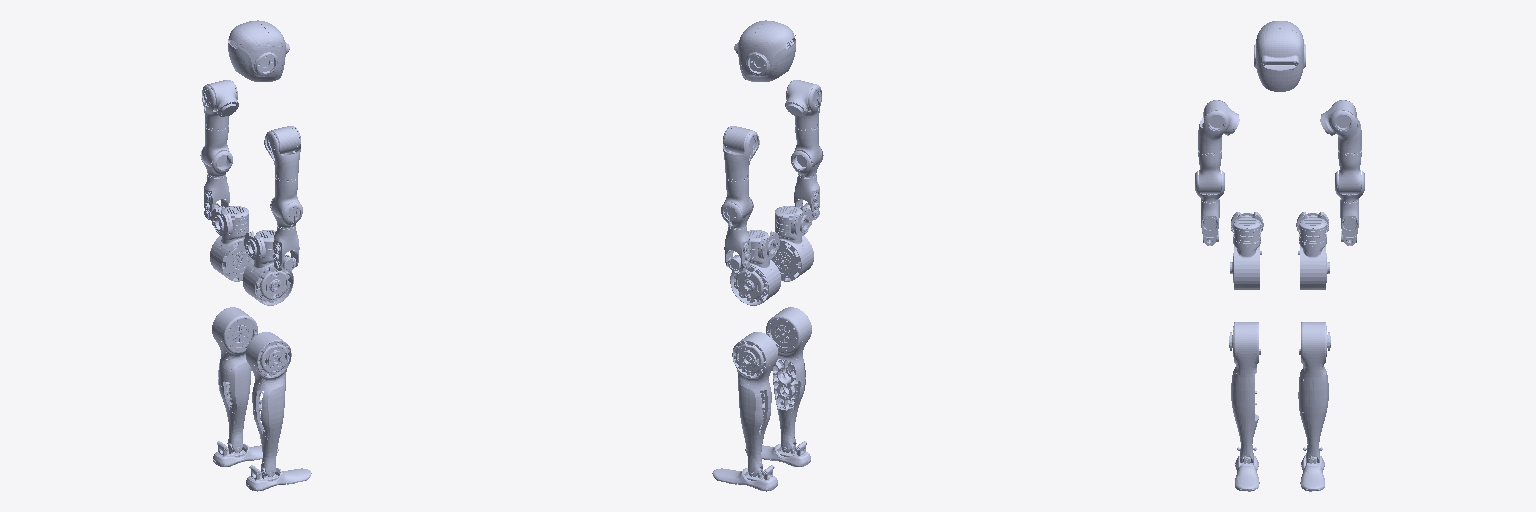
--- What the picture shows (computed from the rendered views, not written in the file) ---
3 views of the same robot in one strip: view 1: azimuth 30°, elevation 25°; view 2: azimuth 150°, elevation 25°; view 3: azimuth 270°, elevation 25° (orthographic).
Model Q1 with 30 links and 29 joints (29 revolute), rooted at pelvis_link, posed every joint at zero.
Links seen in each view (by area): view 1: R_knee_link, L_knee_link, head_pitch_link, R_hip_yaw_link, L_hip_yaw_link, R_ankle_roll_link, R_shoulder_roll_link, L_hip_roll_link, L_shoulder_yaw_link, L_ankle_roll_link, R_forearm_yaw_link, L_shoulder_pitch_link (+5 smaller); view 2: L_knee_link, R_knee_link, head_pitch_link, L_hip_yaw_link, R_hip_yaw_link, L_ankle_roll_link, L_shoulder_roll_link, R_hip_roll_link, R_shoulder_yaw_link, R_ankle_roll_link, L_forearm_yaw_link, R_shoulder_pitch_link (+5 smaller); view 3: L_knee_link, R_knee_link, head_pitch_link, L_hip_yaw_link, R_hip_yaw_link, L_shoulder_yaw_link, R_shoulder_yaw_link, L_shoulder_roll_link, R_shoulder_roll_link, L_hip_roll_link, R_hip_roll_link, L_ankle_roll_link (+5 smaller).
Link boxes in pixels (<box>): R_knee_link: <box>246,332,291,476</box>; L_knee_link: <box>212,307,257,452</box>; head_pitch_link: <box>228,20,289,81</box>; R_hip_yaw_link: <box>242,256,293,305</box>; L_hip_yaw_link: <box>210,228,252,281</box>; R_ankle_roll_link: <box>246,465,311,491</box>; R_shoulder_roll_link: <box>265,126,300,179</box>; L_hip_roll_link: <box>211,206,248,235</box>; L_shoulder_yaw_link: <box>202,125,229,167</box>; L_ankle_roll_link: <box>213,441,278,466</box>; R_forearm_yaw_link: <box>273,225,299,270</box>; L_shoulder_pitch_link: <box>206,80,238,116</box>; L_knee_link: <box>732,332,777,476</box>; R_knee_link: <box>766,307,811,452</box>; head_pitch_link: <box>734,20,795,81</box>; L_hip_yaw_link: <box>730,256,781,305</box>; R_hip_yaw_link: <box>771,228,813,281</box>; L_ankle_roll_link: <box>712,465,777,491</box>; L_shoulder_roll_link: <box>723,126,758,179</box>; R_hip_roll_link: <box>775,206,812,235</box>; R_shoulder_yaw_link: <box>794,125,821,167</box>; R_ankle_roll_link: <box>745,441,810,466</box>; L_forearm_yaw_link: <box>724,225,750,270</box>; R_shoulder_pitch_link: <box>785,80,817,116</box>; L_knee_link: <box>1298,322,1330,462</box>; R_knee_link: <box>1229,322,1260,462</box>; head_pitch_link: <box>1254,21,1305,91</box>; L_hip_yaw_link: <box>1298,239,1329,289</box>; R_hip_yaw_link: <box>1230,239,1261,289</box>; L_shoulder_yaw_link: <box>1338,150,1361,193</box>; R_shoulder_yaw_link: <box>1198,150,1221,193</box>; L_shoulder_roll_link: <box>1331,100,1361,153</box>; R_shoulder_roll_link: <box>1198,100,1228,153</box>; L_hip_roll_link: <box>1296,212,1328,242</box>; R_hip_roll_link: <box>1231,212,1263,242</box>; L_ankle_roll_link: <box>1300,447,1324,491</box>.
Size in the robot's own frame: 0.2527 by 0.5918 by 1.73 metres.
24 mesh visuals loaded from 30 distinct referenced files (24 binary STL); not drawn: 6 (reference not matched to a file when rendering).

URDF robot description (Q1):
<?xml version="1.0" encoding="utf-8"?>
<robot name="Q1">
  <mujoco>
    <compiler meshdir="../meshes" discardvisual="false" />
  </mujoco>
  <!-- [CAUTION] uncomment when convert to mujoco -->
  <!-- <link name="world"></link>
  <joint name="floating_base_joint" type="floating">
    <parent link="world" />
    <child link="pelvis_link" />
  </joint> -->

<!-- pelvis -->
  <link name="pelvis_link">
    <inertial>
      <origin xyz="-0.059494 -3E-05 -0.050247" rpy="0 0 0" />
      <mass value="4.85" />
      <inertia ixx="0.040224" ixy="-8.3E-06" ixz="-0.0023326" iyy="0.016754" iyz="2.11E-05" izz="0.045978" />
    </inertial>
    <visual>
      <origin xyz="0 0 0" rpy="0 0 0" />
      <geometry>
        <mesh filename="meshes/pelvis_link.STL" />
      </geometry>
      <material name="">
        <color rgba="0.79216 0.81961 0.93333 1" />
      </material>
    </visual>
    <collision>
      <origin xyz="-0.1 0 -0.05" rpy="0 0 0" />
      <geometry>
        <box size="0.08 0.35 0.1"/>
      </geometry>
    </collision>
  </link>
<!-- Left leg -->
  <link name="L_hip_roll_link">
    <inertial>
      <origin xyz="-0.017355 3.27E-05 0.0052023" rpy="0 0 0" />
      <mass value="1.25" />
      <inertia ixx="0.0013325" ixy="8E-07" ixz="-1.9E-06" iyy="0.0017211" iyz="-1.8E-06" izz="0.0022727" />
    </inertial>
    <visual>
      <origin xyz="0 0 0" rpy="0 0 0" />
      <geometry>
        <mesh filename="meshes/L_hip_roll_link.STL" />
      </geometry>
      <material name="">
        <color rgba="0.79216 0.81961 0.93333 1" />
      </material>
    </visual>
    <collision>
      <origin xyz="0 0 0" rpy="0 0 0" />
      <geometry>
        <!-- <mesh filename="meshes/L_hip_roll_link.STL" /> -->
        <cylinder radius="0.025" length="0.017"/>
      </geometry>
    </collision>
  </link>
  <joint name="L_hip_roll_joint" type="revolute"><!-- EC-A8112-P1-18 -->
    <origin xyz="-9.9986E-05 0.115 -0.059738" rpy="0 0 0" />
    <parent link="pelvis_link" />
    <child link="L_hip_roll_link" />
    <axis xyz="1 0 0" />
    <limit lower="-0.12" upper="0.83" effort="52" velocity="16.441001554" />
  </joint>
  <link name="L_hip_yaw_link">
    <inertial>
      <origin xyz="-0.0004909 -0.0025588 -0.12649" rpy="0 0 0" />
      <mass value="3.65" />
      <inertia ixx="0.012216" ixy="2.3E-06" ixz="0.0001238" iyy="0.014779" iyz="-9.21E-05" izz="0.0082115" />
    </inertial>
    <visual>
      <origin xyz="0 0 0" rpy="0 0 0" />
      <geometry>
        <mesh filename="meshes/L_hip_yaw_link.STL" />
      </geometry>
      <material name="">
        <color rgba="0.79216 0.81961 0.93333 1" />
      </material>
    </visual>
    <collision>
      <!-- <origin xyz="0 0 0" rpy="0 0 0" /> -->
      <origin xyz="-2.7849E-05 -0.0008477 -0.11745" rpy="1.570796327 0 0" />
      <geometry>
        <!-- <mesh filename="meshes/L_hip_yaw_link.STL" /> -->
        <cylinder radius="0.025" length="0.04"/>
      </geometry>
    </collision>
  </link>
  <joint name="L_hip_yaw_joint" type="revolute"><!-- EC-6408-P2-25 -->
    <origin xyz="0 0 0" rpy="0 0 0" />
    <parent link="L_hip_roll_link" />
    <child link="L_hip_yaw_link" />
    <axis xyz="0 0 1" />
    <limit lower="-0.89" upper="0.89" effort="40" velocity="15.603243513" />
  </joint>
  <link name="L_hip_pitch_link">
    <inertial>
      <origin xyz="0.0099171 0.0018793 -0.13808" rpy="0 0 0" />
      <mass value="2.05" />
      <inertia ixx="0.033566" ixy="-9.03E-05" ixz="0.0007018" iyy="0.032512" iyz="-0.0003565" izz="0.0091417" />
    </inertial>
    <visual>
      <origin xyz="0 0 0" rpy="0 0 0" />
      <geometry>
        <mesh filename="meshes/L_hip_pitch_link.STL" />
      </geometry>
      <material name="">
        <color rgba="0.79216 0.81961 0.93333 1" />
      </material>
    </visual>
    <collision>
      <origin xyz="0 0 -0.12" rpy="0 0 0" />
      <geometry>
        <cylinder radius="0.025" length="0.09"/>
      </geometry>
    </collision>
  </link>
  <joint name="L_hip_pitch_joint" type="revolute"><!-- EC-A10020-P2-24 -->
    <origin xyz="0 0 -0.14" rpy="0 0 0" />
    <parent link="L_hip_yaw_link" />
    <child link="L_hip_pitch_link" />
    <axis xyz="0 1 0" />
    <limit lower="-1.64" upper="0.89" effort="130" velocity="12.88052988" />
  </joint>
  <link name="L_knee_link">
    <inertial>
      <origin xyz="0.0045282 -0.0007966 -0.10136" rpy="0 0 0" />
      <mass value="5.85" />
      <inertia ixx="0.099815" ixy="-8.15E-05" ixz="0.0016236" iyy="0.10276" iyz="0.0007306" izz="0.010767" />
    </inertial>
    <visual>
      <origin xyz="0 0 0" rpy="0 0 0" />
      <geometry>
        <mesh filename="meshes/L_knee_link.STL" />
      </geometry>
      <material name="">
        <color rgba="0.79216 0.81961 0.93333 1" />
      </material>
    </visual>
    <collision>
      <origin xyz="0 0 -0.19" rpy="0 0 0" />
      <geometry>
        <cylinder radius="0.025" length="0.1"/>
      </geometry>
    </collision>
    <collision>
      <origin xyz="0 0 -0.35" rpy="0 0 0" />
      <geometry>
        <cylinder radius="0.025" length="0.1"/>
      </geometry>
    </collision>
    <collision>
      <origin xyz="0 0 0.0" rpy="1.570796327 0 0" />
      <geometry>
        <cylinder radius="0.025" length="0.1"/>
      </geometry>
    </collision>
  </link>
  <joint name="L_knee_joint" type="revolute"><!-- EC-A10020-P2-24 -->
    <origin xyz="0 0 -0.28496" rpy="0 0 0" />
    <parent link="L_hip_pitch_link" />
    <child link="L_knee_link" />
    <axis xyz="0 1 0" />
    <limit lower="-0.1" upper="2.35" effort="130" velocity="12.88052988" />
  </joint>
  <link name="L_ankle_pitch_link">
    <inertial>
      <origin xyz="0 5.24E-05 0.0029854" rpy="0 0 0" />
      <mass value="0.046" />
      <inertia ixx="3.9E-06" ixy="0" ixz="0" iyy="3.6E-06" iyz="0" izz="3.4E-06" />
    </inertial>
    <visual>
      <origin xyz="0 0 0" rpy="0 0 0" />
      <geometry>
        <mesh filename="meshes/L_ankle_pitch_link.STL" />
      </geometry>
      <material name="">
        <color rgba="0.79216 0.81961 0.93333 1" />
      </material>
    </visual>
    <collision>
      <origin xyz="0 0 0" rpy="0 0 0" />
      <geometry>
        <cylinder radius="0.001" length="0.001"/>
        <!-- <mesh filename="meshes/L_ankle_pitch_link.STL" /> -->
      </geometry>
    </collision>
  </link>
  <joint name="L_ankle_pitch_joint" type="revolute"><!-- EC-A4310-P2-36 -->
    <origin xyz="0 -1.39E-05 -0.45087" rpy="0 0 0" />
    <parent link="L_knee_link" />
    <child link="L_ankle_pitch_link" />
    <axis xyz="0 1 0" />
    <limit lower="-0.43" upper="0.43" effort="36" velocity="9.320058206" />
  </joint>
  <link name="L_ankle_roll_link">
    <inertial>
      <origin xyz="0.031136 -2.53E-05 -0.033992" rpy="0 0 0" />
      <mass value="0.7" />
      <inertia ixx="0.0004381" ixy="-3E-07" ixz="0.0002452" iyy="0.003321" iyz="2E-07" izz="0.0034737" />
    </inertial>
    <visual>
      <origin xyz="0 0 0" rpy="0 0 0" />
      <geometry>
        <mesh filename="meshes/L_ankle_roll_link.STL" />
      </geometry>
      <material name="">
        <color rgba="0.79216 0.81961 0.93333 1" />
      </material>
    </visual>
    <collision>
      <origin xyz="-0.063 0.027 -0.047" rpy="0 0 0"/>
      <geometry>
        <sphere radius="0.005"/>
      </geometry>
    </collision>
    <collision>
      <origin xyz="-0.063 -0.027 -0.047" rpy="0 0 0"/>
      <geometry>
        <sphere radius="0.005"/>
      </geometry>
    </collision>
    <collision>
      <origin xyz="-0.071 0 -0.047" rpy="0 0 0"/>
      <geometry>
        <sphere radius="0.005"/>
      </geometry>
    </collision>

    <collision>
      <origin xyz="0.143 0.027 -0.047" rpy="0 0 0"/>
      <geometry>
        <sphere radius="0.005"/>
      </geometry>
    </collision>
    <collision>
      <origin xyz="0.143 -0.027 -0.047" rpy="0 0 0"/>
      <geometry>
        <sphere radius="0.005"/>
      </geometry>
    </collision>
    <collision>
      <origin xyz="0.156 0 -0.047" rpy="0 0 0"/>
      <geometry>
        <sphere radius="0.005"/>
      </geometry>
    </collision>
  </link>
  <joint name="L_ankle_roll_joint" type="revolute"><!-- EC-A4310-P2-36 -->
    <origin xyz="0 0 0" rpy="0 0 0" />
    <parent link="L_ankle_pitch_link" />
    <child link="L_ankle_roll_link" />
    <axis xyz="1 0 0" />
    <limit lower="-0.43" upper="0.43" effort="36" velocity="9.320058206" />
  </joint>
<!-- Right leg -->
  <link name="R_hip_roll_link">
    <inertial>
      <origin xyz="-0.017467 -3.32E-05 0.0053508" rpy="0 0 0" />
      <mass value="1.25" />
      <inertia ixx="0.0013322" ixy="-8E-07" ixz="1E-06" iyy="0.0017254" iyz="1.8E-06" izz="0.0022772" />
    </inertial>
    <visual>
      <origin xyz="0 0 0" rpy="0 0 0" />
      <geometry>
        <mesh filename="meshes/R_hip_roll_link.STL" />
      </geometry>
      <material name="">
        <color rgba="0.79216 0.81961 0.93333 1" />
      </material>
    </visual>
    <collision>
      <origin xyz="0 0 0" rpy="0 0 0" />
      <geometry>
        <cylinder radius="0.025" length="0.017"/>
      </geometry>
    </collision>
  </link>
  <joint name="R_hip_roll_joint" type="revolute"><!-- EC-A8112-P1-18 -->
    <origin xyz="-9.9986E-05 -0.115 -0.059738" rpy="0 0 0" />
    <parent link="pelvis_link" />
    <child link="R_hip_roll_link" />
    <axis xyz="1 0 0" />
    <limit lower="-0.83" upper="0.12" effort="52" velocity="16.441001554" />
  </joint>
  <link name="R_hip_yaw_link">
    <inertial>
      <origin xyz="-0.0004713 0.0022785 -0.12678" rpy="0 0 0" />
      <mass value="3.65" />
      <inertia ixx="0.012184" ixy="-2.7E-06" ixz="0.0001216" iyy="0.014737" iyz="0.0001071" izz="0.0082214" />
    </inertial>
    <visual>
      <origin xyz="0 0 0" rpy="0 0 0" />
      <geometry>
        <mesh filename="meshes/R_hip_yaw_link.STL" />
      </geometry>
      <material name="">
        <color rgba="0.79216 0.81961 0.93333 1" />
      </material>
    </visual>
    <collision>
      <origin xyz="-2.7849E-05 -0.0008477 -0.11745" rpy="1.570796327 0 0" />
      <geometry>
        <cylinder radius="0.025" length="0.04"/>
      </geometry>
    </collision>
  </link>
  <joint name="R_hip_yaw_joint" type="revolute"><!-- EC-6408-P2-25 -->
    <origin xyz="0 0 0" rpy="0 0 0" />
    <parent link="R_hip_roll_link" />
    <child link="R_hip_yaw_link" />
    <axis xyz="0 0 1" />
    <limit lower="-0.89" upper="0.89" effort="40" velocity="15.603243513" />
  </joint>
  <link name="R_hip_pitch_link">
    <inertial>
      <origin xyz="0.011017 -0.002621 -0.13561" rpy="0 0 0" />
      <mass value="2.05" />
      <inertia ixx="0.033387" ixy="-9.2E-06" ixz="0.0010502" iyy="0.032236" iyz="0.0001658" izz="0.0091047" />
    </inertial>
    <visual>
      <origin xyz="0 0 0" rpy="0 0 0" />
      <geometry>
        <mesh filename="meshes/R_hip_pitch_link.STL" />
      </geometry>
      <material name="">
        <color rgba="0.79216 0.81961 0.93333 1" />
      </material>
    </visual>
    <collision>
      <origin xyz="0 0 -0.12" rpy="0 0 0" />
      <geometry>
        <cylinder radius="0.025" length="0.09"/>
      </geometry>
    </collision>
  </link>
  <joint name="R_hip_pitch_joint" type="revolute"><!-- EC-A10020-P2-24 -->
    <origin xyz="0 0 -0.14" rpy="0 0 0" />
    <parent link="R_hip_yaw_link" />
    <child link="R_hip_pitch_link" />
    <axis xyz="0 1 0" />
    <limit lower="-1.64" upper="0.89" effort="130" velocity="12.88052988" />
  </joint>
  <link name="R_knee_link">
    <inertial>
      <origin xyz="0.004517 0.0006816 -0.10176" rpy="0 0 0" />
      <mass value="5.85" />
      <inertia ixx="0.099954" ixy="8.42E-05" ixz="0.0016312" iyy="0.10289" iyz="-0.0007782" izz="0.010779" />
    </inertial>
    <visual>
      <origin xyz="0 0 0" rpy="0 0 0" />
      <geometry>
        <mesh filename="meshes/R_knee_link.STL" />
      </geometry>
      <material name="">
        <color rgba="0.79216 0.81961 0.93333 1" />
      </material>
    </visual>
    <collision>
      <origin xyz="0 0 -0.19" rpy="0 0 0" />
      <geometry>
        <cylinder radius="0.025" length="0.1"/>
      </geometry>
    </collision>
    <collision>
      <origin xyz="0 0 -0.35" rpy="0 0 0" />
      <geometry>
        <cylinder radius="0.025" length="0.1"/>
      </geometry>
    </collision>
    <collision>
      <origin xyz="0 0 0.0" rpy="1.570796327 0 0" />
      <geometry>
        <cylinder radius="0.025" length="0.1"/>
      </geometry>
    </collision>
  </link>
  <joint name="R_knee_joint" type="revolute"><!-- EC-A10020-P2-24 -->
    <origin xyz="0 0 -0.28496" rpy="0 0 0" />
    <parent link="R_hip_pitch_link" />
    <child link="R_knee_link" />
    <axis xyz="0 1 0" />
    <limit lower="-0.1" upper="2.35" effort="130" velocity="12.88052988" />
  </joint>
  <link name="R_ankle_pitch_link">
    <inertial>
      <origin xyz="0 -5.25E-05 0.0029854" rpy="0 0 0" />
      <mass value="0.046" />
      <inertia ixx="3.9E-06" ixy="0" ixz="0" iyy="3.6E-06" iyz="0" izz="3.4E-06" />
    </inertial>
    <visual>
      <origin xyz="0 0 0" rpy="0 0 0" />
      <geometry>
        <mesh filename="meshes/R_ankle_pitch_link.STL" />
      </geometry>
      <material name="">
        <color rgba="0.79216 0.81961 0.93333 1" />
      </material>
    </visual>
    <collision>
      <origin xyz="0 0 0" rpy="0 0 0" />
      <geometry>
        <cylinder radius="0.001" length="0.001"/>
      </geometry>
    </collision>
  </link>
  <joint name="R_ankle_pitch_joint" type="revolute"><!-- EC-A4310-P2-36 -->
    <origin xyz="0 1.39E-05 -0.45087" rpy="0 0 0" />
    <parent link="R_knee_link" />
    <child link="R_ankle_pitch_link" />
    <axis xyz="0 1 0" />
    <limit lower="-0.43" upper="0.43" effort="36" velocity="9.320058206" />
  </joint>
  <link name="R_ankle_roll_link">
    <inertial>
      <origin xyz="0.031138 2.29E-05 -0.033992" rpy="0 0 0" />
      <mass value="0.7" />
      <inertia ixx="0.0004381" ixy="-3E-07" ixz="0.0002452" iyy="0.003321" iyz="2E-07" izz="0.0034737" />
    </inertial>
    <visual>
      <origin xyz="0 0 0" rpy="0 0 0" />
      <geometry>
        <mesh filename="meshes/R_ankle_roll_link.STL" />
      </geometry>
      <material name="">
        <color rgba="0.79216 0.81961 0.93333 1" />
      </material>
    </visual>
    <collision>
      <origin xyz="-0.063 0.027 -0.047" rpy="0 0 0"/>
      <geometry>
        <sphere radius="0.005"/>
      </geometry>
    </collision>
    <collision>
      <origin xyz="-0.063 -0.027 -0.047" rpy="0 0 0"/>
      <geometry>
        <sphere radius="0.005"/>
      </geometry>
    </collision>
    <collision>
      <origin xyz="-0.071 0 -0.047" rpy="0 0 0"/>
      <geometry>
        <sphere radius="0.005"/>
      </geometry>
    </collision>

    <collision>
      <origin xyz="0.143 0.027 -0.047" rpy="0 0 0"/>
      <geometry>
        <sphere radius="0.005"/>
      </geometry>
    </collision>
    <collision>
      <origin xyz="0.143 -0.027 -0.047" rpy="0 0 0"/>
      <geometry>
        <sphere radius="0.005"/>
      </geometry>
    </collision>
    <collision>
      <origin xyz="0.156 0 -0.047" rpy="0 0 0"/>
      <geometry>
        <sphere radius="0.005"/>
      </geometry>
    </collision>
  </link>
  <joint name="R_ankle_roll_joint" type="revolute"><!-- EC-A4310-P2-36 -->
    <origin xyz="0 0 0" rpy="0 0 0" />
    <parent link="R_ankle_pitch_link" />
    <child link="R_ankle_roll_link" />
    <axis xyz="1 0 0" />
    <limit lower="-0.43" upper="0.43" effort="36" velocity="9.320058206" />
  </joint>
<!-- torso -->
  <link name="torso_link">
    <inertial>
      <origin xyz="-0.0089007 -0.0039058 0.2485" rpy="0 0 0" />
      <mass value="19.078" />
      <inertia ixx="0.35363" ixy="0.0031429" ixz="0.0051754" iyy="0.33182" iyz="-0.0025138" izz="0.16869" />
    </inertial>
    <visual>
      <origin xyz="0 0 0" rpy="0 0 0" />
      <geometry>
        <mesh filename="meshes/torso_link.STL" />
      </geometry>
      <material name="">
        <color rgba="0.79216 0.81961 0.93333 1" />
      </material>
    </visual>
    <collision>
      <origin xyz="-0.01 0 0.25" rpy="0 0 0" />
      <geometry>
        <box size="0.25 0.16 0.37"/>
      </geometry>
    </collision>
  </link>
  <joint name="pelvis_joint" type="revolute">
    <origin xyz="0 0 0" rpy="0 0 0" />
    <parent link="pelvis_link" />
    <child link="torso_link" />
    <axis xyz="0 0 1" />
    <limit lower="-1.04" upper="1.04" effort="42" velocity="8.58701992" />
  </joint>
<!-- Left arm -->
  <link name="L_shoulder_pitch_link">
    <inertial>
      <origin xyz="0.0034819 -0.0047797 -1.2E-06" rpy="0 0 0" />
      <mass value="1.35" />
      <inertia ixx="0.0016146" ixy="-1.99E-05" ixz="-1E-07" iyy="0.0012512" iyz="-2E-07" izz="0.0014304" />
    </inertial>
    <visual>
      <origin xyz="0 0 0" rpy="0 0 0" />
      <geometry>
        <mesh filename="meshes/L_shoulder_pitch_link.STL" />
      </geometry>
      <material name="">
        <color rgba="0.79216 0.81961 0.93333 1" />
      </material>
    </visual>
    <collision>
      <!-- <origin xyz="0 0 0" rpy="0 0 0" /> -->
      <origin xyz="0 0 0" rpy="1.570796327 0 1.570796327"/>
      <geometry>
        <cylinder radius="0.025" length="0.03"/>
        <!-- <mesh filename="meshes/L_shoulder_pitch_link.STL" /> -->
      </geometry>
    </collision>
  </link>
  <joint name="L_shoulder_pitch_joint" type="revolute"><!-- CRA-RI60-80 -->
    <origin xyz="-0.00015827 0.22119 0.38344" rpy="0.2618 0 0" />
    <parent link="torso_link" />
    <child link="L_shoulder_pitch_link" />
    <axis xyz="0 1 0" />
    <limit lower="-1.48" upper="1.48" effort="42" velocity="8.58701992" />
  </joint>
  <link name="L_shoulder_roll_link">
    <inertial>
      <origin xyz="0.0001178 0.0023667 -0.056312" rpy="0 0 0" />
      <mass value="0.55" />
      <inertia ixx="0.0014965" ixy="1E-07" ixz="-1.21E-05" iyy="0.0018786" iyz="8.8E-06" izz="0.0011623" />
    </inertial>
    <visual>
      <origin xyz="0 0 0" rpy="-0.2618 0 0" />
      <geometry>
        <mesh filename="meshes/L_shoulder_roll_link.STL" />
      </geometry>
      <material name="">
        <color rgba="0.79216 0.81961 0.93333 1" />
      </material>
    </visual>
    <collision>
      <origin xyz="0 -0.001 -0.09" rpy="-0.2618 0 0" />
      <geometry>
        <cylinder radius="0.02" length="0.03"/>
      </geometry>
    </collision>
  </link>
  <joint name="L_shoulder_roll_joint" type="revolute"><!-- CRA-RI60-80 -->
    <origin xyz="0 0 0" rpy="0 0 0" />
    <parent link="L_shoulder_pitch_link" />
    <child link="L_shoulder_roll_link" />
    <axis xyz="1 0 0" />
    <limit lower="-0.12" upper="3.17" effort="42" velocity="8.58701992" />
  </joint>
  <link name="L_shoulder_yaw_link">
    <inertial>
      <origin xyz="0.0030369 -0.000691 0.048579" rpy="0 0 0" />
      <mass value="1.95" />
      <inertia ixx="0.0059016" ixy="-2.9E-06" ixz="0.0002786" iyy="0.0057612" iyz="-6.3E-06" izz="0.0016272" />
    </inertial>
    <visual>
      <origin xyz="0 0 0" rpy="0 0 -1.570796327" />
      <geometry>
        <mesh filename="meshes/L_shoulder_yaw_link.STL" />
      </geometry>
      <material name="">
        <color rgba="0.79216 0.81961 0.93333 1" />
      </material>
    </visual>
    <collision>
      <origin xyz="0 0 0.05" rpy="0 0 0" />
      <geometry>
        <cylinder radius="0.02" length="0.06"/>
      </geometry>
    </collision>
  </link>
  <joint name="L_shoulder_yaw_joint" type="revolute"><!-- CRA-RI50-70 -->
    <origin xyz="0 -0.043208 -0.25042" rpy="-0.2618 0 0" />
    <parent link="L_shoulder_roll_link" />
    <child link="L_shoulder_yaw_link" />
    <axis xyz="0 0 1" />
    <limit lower="-1.69" upper="1.69" effort="23" velocity="10.157816247" />
  </joint>
  <link name="L_elbow_link">
    <inertial>
      <origin xyz="-0.0013729 0.0051926 -0.01857" rpy="0 0 0" />
      <mass value="0.25" />
      <inertia ixx="0.0003112" ixy="-1.1E-06" ixz="1.1E-06" iyy="0.0005758" iyz="2.23E-05" izz="0.0005034" />
    </inertial>
    <visual>
      <origin xyz="0 0 0" rpy="0 0 -1.570796327" />
      <geometry>
        <mesh filename="meshes/L_elbow_link.STL" />
      </geometry>
      <material name="">
        <color rgba="0.79216 0.81961 0.93333 1" />
      </material>
    </visual>
    <collision>
      <origin xyz="0 0 -0.02" rpy="0 0 -1.570796327" />
      <geometry>
        <cylinder radius="0.02" length="0.03"/>
      </geometry>
    </collision>
  </link>
  <joint name="L_elbow_joint" type="revolute"><!-- CRA-RI50-70 -->
    <origin xyz="0 0 0" rpy="0 0 0" />
    <parent link="L_shoulder_yaw_link" />
    <child link="L_elbow_link" />
    <axis xyz="0 1 0" />
    <limit lower="-1.95" upper="0.87" effort="23" velocity="10.157816247" />
  </joint>
  <link name="L_forearm_yaw_link">
    <inertial>
      <origin xyz="0.0014016 0.0001246 0.09169" rpy="0 0 0" />
      <mass value="1.05" />
      <inertia ixx="0.0016627" ixy="3.5E-06" ixz="2.96E-05" iyy="0.001822" iyz="-5.7E-06" izz="0.0007356" />
    </inertial>
    <visual>
      <origin xyz="0 0 0" rpy="0 0 0" />
      <geometry>
        <mesh filename="meshes/L_forearm_yaw_link.STL" />
      </geometry>
      <material name="">
        <color rgba="0.79216 0.81961 0.93333 1" />
      </material>
    </visual>
    <collision>
      <origin xyz="0 0 0.082" rpy="0 0 0" />
      <geometry>
        <cylinder radius="0.025" length="0.03"/>
      </geometry>
    </collision>
  </link>
  <joint name="L_forearm_yaw_joint" type="revolute"><!-- CRA-RI40-52 -->
    <origin xyz="0 0 -0.209" rpy="0 0 0" />
    <parent link="L_elbow_link" />
    <child link="L_forearm_yaw_link" />
    <axis xyz="0 0 1" />
    <limit lower="-1.53" upper="1.53" effort="8.3" velocity="12.356931104" />
  </joint>
  <link name="L_wrist_roll_link">
    <inertial>
      <origin xyz="0 -0.0047393 -2.85E-05" rpy="0 0 0" />
      <mass value="0.25" />
      <inertia ixx="8.23E-05" ixy="0" ixz="0" iyy="5.6E-05" iyz="2E-07" izz="8.3E-05" />
    </inertial>
    <visual>
      <origin xyz="0 0 0" rpy="0 0 0" />
      <geometry>
        <mesh filename="meshes/L_wrist_roll_link.STL" />
      </geometry>
      <material name="">
        <color rgba="0.79216 0.81961 0.93333 1" />
      </material>
    </visual>
    <collision>
      <origin xyz="0 0 0" rpy="0 1.570796327 0" />
      <geometry>
        <cylinder radius="0.015" length="0.01"/>
      </geometry>
    </collision>
  </link>
  <joint name="L_wrist_roll_joint" type="revolute"><!-- CRA-RI30-40 -->
    <origin xyz="0 0 0" rpy="0 0 0" />
    <parent link="L_forearm_yaw_link" />
    <child link="L_wrist_roll_link" />
    <axis xyz="1 0 0" />
    <limit lower="-2.3" upper="1.39" effort="3.3" velocity="12.356931104" />
  </joint>
  <link name="L_wrist_pitch_link">
    <inertial>
      <origin xyz="8.81E-05 0.0081922 -0.051309" rpy="0 0 0" />
      <mass value="0.16" />
      <inertia ixx="0.0001452" ixy="-2E-07" ixz="2E-07" iyy="0.0001194" iyz="-4.49E-05" izz="6.56E-05" />
    </inertial>
    <visual>
      <origin xyz="0 0 0" rpy="0 0 0" />
      <geometry>
        <mesh filename="meshes/L_wrist_pitch_link.STL" />
      </geometry>
      <material name="">
        <color rgba="0.79216 0.81961 0.93333 1" />
      </material>
    </visual>
    <collision>
      <origin xyz="0 0 -0.16" rpy="0 0 0" />
      <geometry>
        <box size="0.06 0.03 0.18"/>
      </geometry>
    </collision>
  </link>
  <joint name="L_wrist_pitch_joint" type="revolute"><!-- CRA-RI30-40 -->
    <origin xyz="0 0 0" rpy="0 0 0" />
    <parent link="L_wrist_roll_link" />
    <child link="L_wrist_pitch_link" />
    <axis xyz="0 1 0" />
    <limit lower="-1.78" upper="1.67" effort="3.3" velocity="12.356931104" />
  </joint>
<!-- Right arm -->
  <link name="R_shoulder_pitch_link">
    <inertial>
      <origin xyz="0.003482 0.0047796 -1.4E-06" rpy="0 0 0" />
      <mass value="1.35" />
      <inertia ixx="0.0016147" ixy="1.99E-05" ixz="-2E-07" iyy="0.0012512" iyz="2E-07" izz="0.0014303" />
    </inertial>
    <visual>
      <origin xyz="0 0 0" rpy="0 0 0" />
      <geometry>
        <mesh filename="meshes/R_shoulder_pitch_link.STL" />
      </geometry>
      <material name="">
        <color rgba="0.79216 0.81961 0.93333 1" />
      </material>
    </visual>
    <collision>
      <origin xyz="0 0 0" rpy="1.570796327 0 1.570796327"/>
      <geometry>
        <cylinder radius="0.025" length="0.03"/>
      </geometry>
    </collision>
  </link>
  <joint name="R_shoulder_pitch_joint" type="revolute"><!-- CRA-RI60-80 -->
    <origin xyz="-0.00015827 -0.22119 0.38344" rpy="-0.2618 0 0" />
    <parent link="torso_link" />
    <child link="R_shoulder_pitch_link" />
    <axis xyz="0 1 0" />
    <limit lower="-1.48" upper="1.48" effort="42" velocity="8.58701992" />
  </joint>
  <link name="R_shoulder_roll_link">
    <inertial>
      <origin xyz="0.00012 -0.0023541 -0.056316" rpy="0 0 0" />
      <mass value="0.55" />
      <inertia ixx="0.0014966" ixy="1E-07" ixz="-1.21E-05" iyy="0.0018788" iyz="-8.8E-06" izz="0.0011624" />
    </inertial>
    <visual>
      <origin xyz="0 0 0" rpy="0.2618 0 0" />
      <geometry>
        <mesh filename="meshes/R_shoulder_roll_link.STL" />
      </geometry>
      <material name="">
        <color rgba="0.79216 0.81961 0.93333 1" />
      </material>
    </visual>
    <collision>
      <origin xyz="0 -0.001 -0.09" rpy="0.2618 0 0" />
      <geometry>
        <cylinder radius="0.02" length="0.03"/>
      </geometry>
    </collision>
  </link>
  <joint name="R_shoulder_roll_joint" type="revolute"><!-- CRA-RI60-80 -->
    <origin xyz="0 0 0" rpy="0 0 0" />
    <parent link="R_shoulder_pitch_link" />
    <child link="R_shoulder_roll_link" />
    <axis xyz="1 0 0" />
    <limit lower="-3.17" upper="0.12" effort="42" velocity="8.58701992" />
  </joint>
  <link name="R_shoulder_yaw_link">
    <inertial>
      <origin xyz="0.0030364 0.0006912 0.048579" rpy="0 0 0" />
      <mass value="1.95" />
      <inertia ixx="0.0059016" ixy="3E-06" ixz="0.0002787" iyy="0.0057611" iyz="6.3E-06" izz="0.001627" />
    </inertial>
    <visual>
      <origin xyz="0 0 0" rpy="0 0 1.570796327" />
      <geometry>
        <mesh filename="meshes/R_shoulder_yaw_link.STL" />
      </geometry>
      <material name="">
        <color rgba="0.79216 0.81961 0.93333 1" />
      </material>
    </visual>
    <collision>
      <origin xyz="0 0 0.05" rpy="0 0 -1.570796327" />
      <geometry>
        <cylinder radius="0.02" length="0.06"/>
      </geometry>
    </collision>
  </link>
  <joint name="R_shoulder_yaw_joint" type="revolute"><!-- CRA-RI50-70 -->
    <origin xyz="0 0.043208 -0.25042" rpy="0.2618 0 0" />
    <parent link="R_shoulder_roll_link" />
    <child link="R_shoulder_yaw_link" />
    <axis xyz="0 0 1" />
    <limit lower="-1.69" upper="1.69" effort="23" velocity="10.157816247" />
  </joint>
  <link name="R_elbow_link">
    <inertial>
      <origin xyz="-0.0013805 -0.0051935 -0.018572" rpy="0 0 0" />
      <mass value="0.25" />
      <inertia ixx="0.0003112" ixy="1.1E-06" ixz="1.1E-06" iyy="0.0005757" iyz="-2.23E-05" izz="0.0005034" />
    </inertial>
    <visual>
      <origin xyz="0 0 0" rpy="0 0 1.570796327" />
      <geometry>
        <mesh filename="meshes/R_elbow_link.STL" />
      </geometry>
      <material name="">
        <color rgba="0.79216 0.81961 0.93333 1" />
      </material>
    </visual>
    <collision>
      <origin xyz="0 0 -0.02" rpy="0 0 1.570796327" />
      <geometry>
        <cylinder radius="0.02" length="0.03"/>
      </geometry>
    </collision>
  </link>
  <joint name="R_elbow_joint" type="revolute"><!-- CRA-RI50-70 -->
    <origin xyz="0 0 0" rpy="0 0 0" />
    <parent link="R_shoulder_yaw_link" />
    <child link="R_elbow_link" />
    <axis xyz="0 1 0" />
    <limit lower="-0.87" upper="1.95" effort="23" velocity="10.157816247" />
  </joint>
  <link name="R_forearm_yaw_link">
    <inertial>
      <origin xyz="0.0014 -0.0001237 0.09169" rpy="0 0 0" />
      <mass value="1.05" />
      <inertia ixx="0.0016625" ixy="-3.5E-06" ixz="2.96E-05" iyy="0.0018219" iyz="5.7E-06" izz="0.0007357" />
    </inertial>
    <visual>
      <origin xyz="0 0 0" rpy="0 0 0" />
      <geometry>
        <mesh filename="meshes/R_forearm_yaw_link.STL" />
      </geometry>
      <material name="">
        <color rgba="0.79216 0.81961 0.93333 1" />
      </material>
    </visual>
    <collision>
      <origin xyz="0 0 0.082" rpy="0 0 0" />
      <geometry>
        <cylinder radius="0.025" length="0.03"/>
      </geometry>
    </collision>
  </link>
  <joint name="R_forearm_yaw_joint" type="revolute"><!-- CRA-RI40-52 -->
    <origin xyz="0 0 -0.209" rpy="0 0 0" />
    <parent link="R_elbow_link" />
    <child link="R_forearm_yaw_link" />
    <axis xyz="0 0 1" />
    <limit lower="-1.53" upper="1.53" effort="8.3" velocity="12.356931104" />
  </joint>
  <link name="R_wrist_roll_link">
    <inertial>
      <origin xyz="0 0.0047393 -2.85E-05" rpy="0 0 0" />
      <mass value="0.25" />
      <inertia ixx="8.23E-05" ixy="0" ixz="0" iyy="5.6E-05" iyz="-2E-07" izz="8.3E-05" />
    </inertial>
    <visual>
      <origin xyz="0 0 0" rpy="0 0 0" />
      <geometry>
        <mesh filename="meshes/R_wrist_roll_link.STL" />
      </geometry>
      <material name="">
        <color rgba="0.79216 0.81961 0.93333 1" />
      </material>
    </visual>
    <collision>
      <origin xyz="0 0 0" rpy="0 1.570796327 0" />
      <geometry>
        <cylinder radius="0.015" length="0.01"/>
      </geometry>
    </collision>
  </link>
  <joint name="R_wrist_roll_joint" type="revolute"><!-- CRA-RI30-40 -->
    <origin xyz="0 0 0" rpy="0 0 0" />
    <parent link="R_forearm_yaw_link" />
    <child link="R_wrist_roll_link" />
    <axis xyz="1 0 0" />
    <limit lower="-1.39" upper="2.3" effort="3.3" velocity="12.356931104" />
  </joint>
  <link name="R_wrist_pitch_link">
    <inertial>
      <origin xyz="8.81E-05 -0.0081922 -0.051309" rpy="0 0 0" />
      <mass value="0.16" />
      <inertia ixx="0.0001452" ixy="2E-07" ixz="2E-07" iyy="0.0001194" iyz="4.49E-05" izz="6.56E-05" />
    </inertial>
    <visual>
      <origin xyz="0 0 0" rpy="0 0 0" />
      <geometry>
        <mesh filename="meshes/R_wrist_pitch_link.STL" />
      </geometry>
      <material name="">
        <color rgba="0.79216 0.81961 0.93333 1" />
      </material>
    </visual>
    <collision>
      <origin xyz="0 0 -0.16" rpy="0 0 0" />
      <geometry>
        <box size="0.06 0.03 0.18"/>
      </geometry>
    </collision>
  </link>
  <joint name="R_wrist_pitch_joint" type="revolute"><!-- CRA-RI30-40 -->
    <origin xyz="0 0 0" rpy="0 0 0" />
    <parent link="R_wrist_roll_link" />
    <child link="R_wrist_pitch_link" />
    <axis xyz="0 1 0" />
    <limit lower="-1.78" upper="1.67" effort="3.3" velocity="12.356931104" />
  </joint>
<!-- Head -->
  <link name="head_yaw_link">
    <inertial>
      <origin xyz="9.42E-05 -0.0015802 -0.0048308" rpy="0 0 0" />
      <mass value="0.8" />
      <inertia ixx="0.0023797" ixy="-5E-07" ixz="7E-07" iyy="0.0005019" iyz="5.7E-06" izz="0.0023519" />
    </inertial>
    <visual>
      <origin xyz="0 0 0" rpy="0 0 0" />
      <geometry>
        <mesh filename="meshes/head_yaw_link.STL" />
      </geometry>
      <material name="">
        <color rgba="0.79216 0.81961 0.93333 1" />
      </material>
    </visual>
    <collision>
      <origin xyz="0 0 0" rpy="0 0 0" />
      <geometry>
        <box size="0.01 0.01 0.01"/>
      </geometry>
    </collision>
  </link>
  <joint name="head_yaw_joint" type="revolute">
    <origin xyz="0.011342 0 0.62019" rpy="0 0 0" />
    <parent link="torso_link" />
    <child link="head_yaw_link" />
    <axis xyz="0 0 1" />
    <limit lower="-1.57" upper="1.57" effort="2.52" velocity="29.216811679" />
  </joint>
  <link name="head_pitch_link">
    <inertial>
      <origin xyz="0.021366 0.0020556 0.027951" rpy="0 0 0" />
      <mass value="0.72904" />
      <inertia ixx="0.0033823" ixy="4.5E-05" ixz="0.0004603" iyy="0.0044162" iyz="3.21E-05" izz="0.0042325" />
    </inertial>
    <visual>
      <origin xyz="0 0 0" rpy="0 0 0" />
      <geometry>
        <mesh filename="meshes/head_pitch_link.STL" />
      </geometry>
      <material name="">
        <color rgba="0.79216 0.81961 0.93333 1" />
      </material>
    </visual>
    <collision>
      <origin xyz="0 0 0" rpy="0 0 0" />
      <geometry>
        <box size="0.01 0.12 0.12"/>
      </geometry>
    </collision>
  </link>
  <joint name="head_pitch_joint" type="revolute">
    <origin xyz="0 0 0" rpy="0 0 0" />
    <parent link="head_yaw_link" />
    <child link="head_pitch_link" />
    <axis xyz="0 1 0" />
    <limit lower="-0.38" upper="0.33" effort="1.26" velocity="58.433623357" />
  </joint>
</robot>
